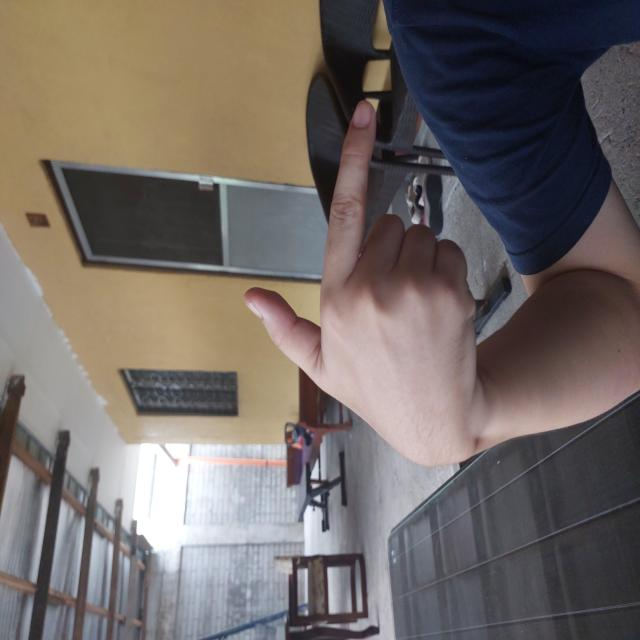G: (170, 241, 543, 478)
